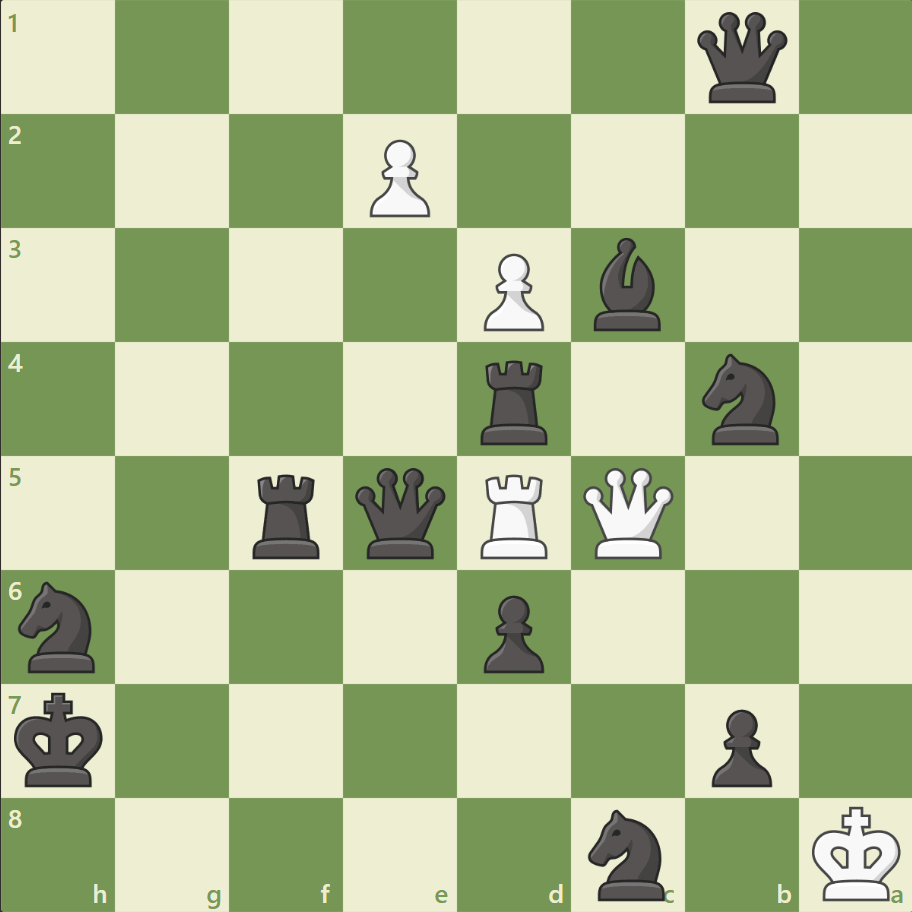K: (806, 798, 906, 906)
P: (474, 246, 549, 337), (361, 132, 435, 223)
Q: (578, 463, 677, 562)
R: (473, 466, 556, 563)
b: (585, 233, 669, 336)
k: (11, 685, 111, 793)
n: (579, 802, 676, 904), (11, 575, 108, 677), (692, 348, 789, 450)
p: (701, 700, 776, 791), (474, 586, 549, 677)
q: (351, 463, 450, 562), (691, 9, 790, 108)
r: (246, 466, 329, 563), (473, 352, 556, 449)
